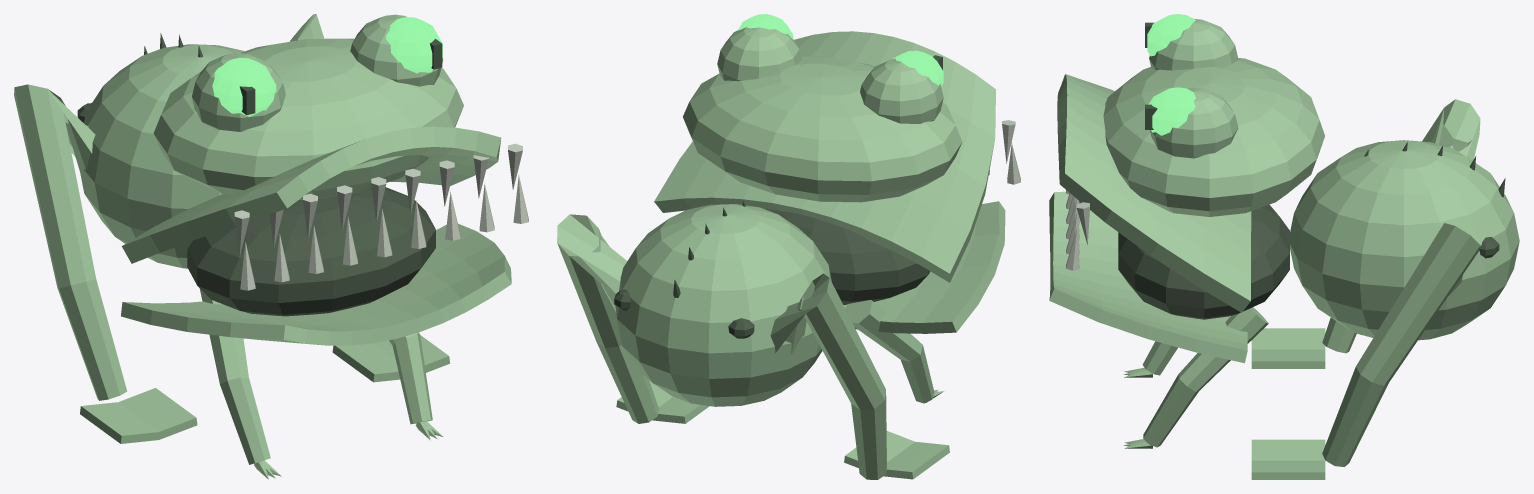
The model's file is lurker.glb.
3 renders of one model, left to right at view 1: azimuth 30°, elevation 25°; view 2: azimuth 150°, elevation 25°; view 3: azimuth 270°, elevation 25°, orthographic. The views are drawn at different scales.
Visible parts, largest first — view 1: lurker_body, lurker_dark, lurker_bone, lurker_glow; view 2: lurker_body, lurker_dark, lurker_glow, lurker_bone; view 3: lurker_body, lurker_dark, lurker_glow, lurker_bone.
Boxes of the visible parts, x1,y1,x2,y2 form: lurker_body: (14,14,511,479); lurker_dark: (77,33,442,316); lurker_bone: (234,143,528,290); lurker_glow: (212,17,442,116); lurker_body: (557,27,1005,479); lurker_dark: (614,55,942,338); lurker_glow: (738,14,943,86); lurker_bone: (988,120,1020,184); lurker_body: (1049,19,1519,479); lurker_dark: (1118,22,1505,319); lurker_glow: (1147,14,1195,135); lurker_bone: (1066,190,1089,270).
Size of the model in its own units: 1.33 by 1.5 by 1.78.
